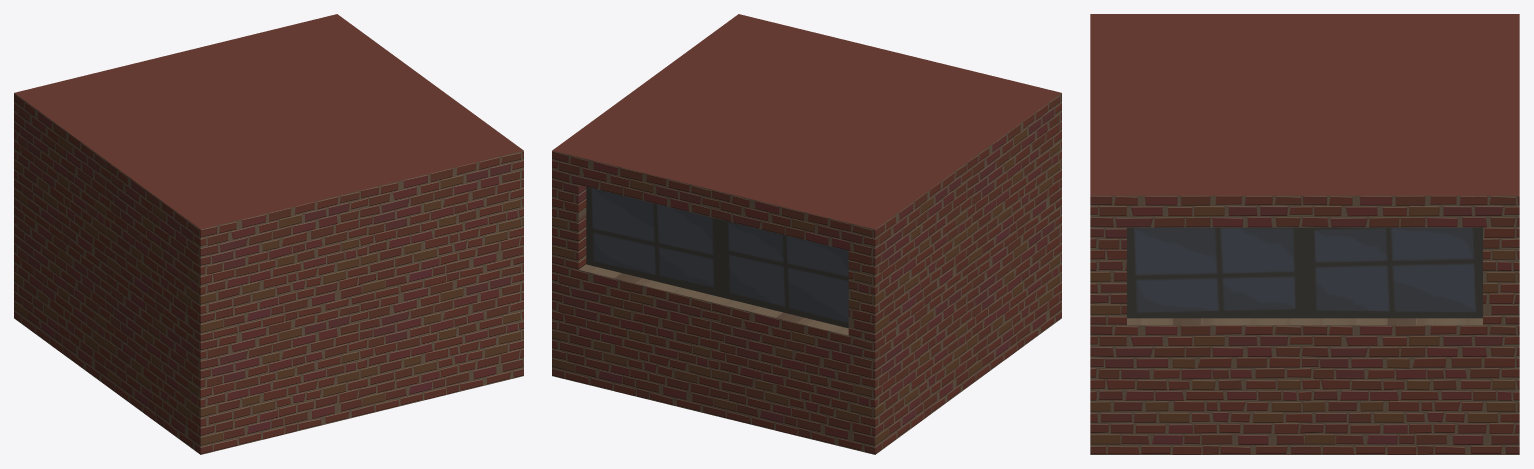
Rendered from Bock_A1.fbx.
3 views of the same model, side by side, from view 1: azimuth 30°, elevation 25°; view 2: azimuth 150°, elevation 25°; view 3: azimuth 270°, elevation 25° (orthographic). The views are drawn at different scales.
Visible parts, largest first — view 1: Bock_A1; view 2: Bock_A1; view 3: Bock_A1.
Part boxes in pixels (<box>): Bock_A1: <box>14,14,523,454</box>; Bock_A1: <box>552,14,1061,454</box>; Bock_A1: <box>1090,14,1519,454</box>.
Size of the model in its own units: 600 by 400 by 600.
Materials: 1 (1 with a texture image).
